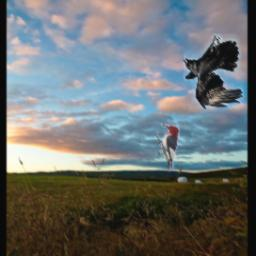Crow: (184, 35, 244, 110)
Woodpecker: (157, 123, 180, 172)
